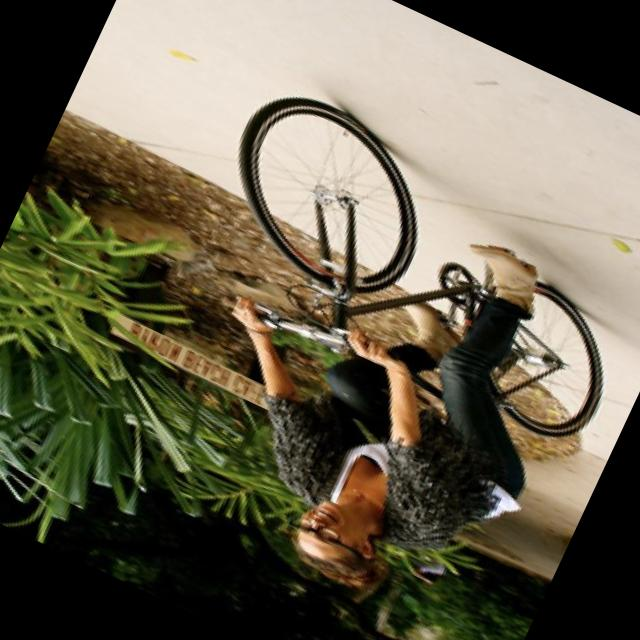bareface: (271, 486, 398, 594)
